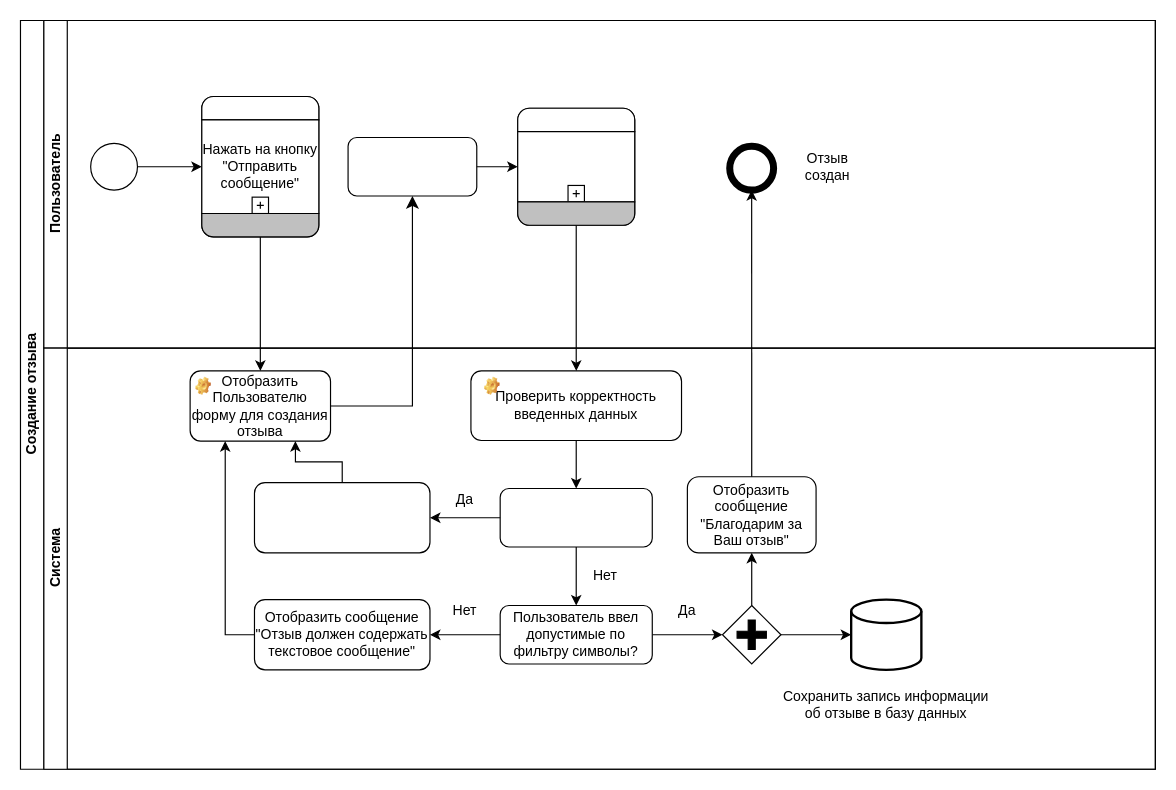
Image size: 1176x790. Some labels were removed from this diagram. Here are the shapes that lost their labels. From the top down, the centre of each, then its label:
[412,166]: Заполнить форму для создания отзыва
[576,166]: Нажать на кнопку "Оставить отзыв"
[341,517]: Отобразить сообщение "Проверьте заполнение обязательных полей"
[575,517]: Поле ввода пустое?
